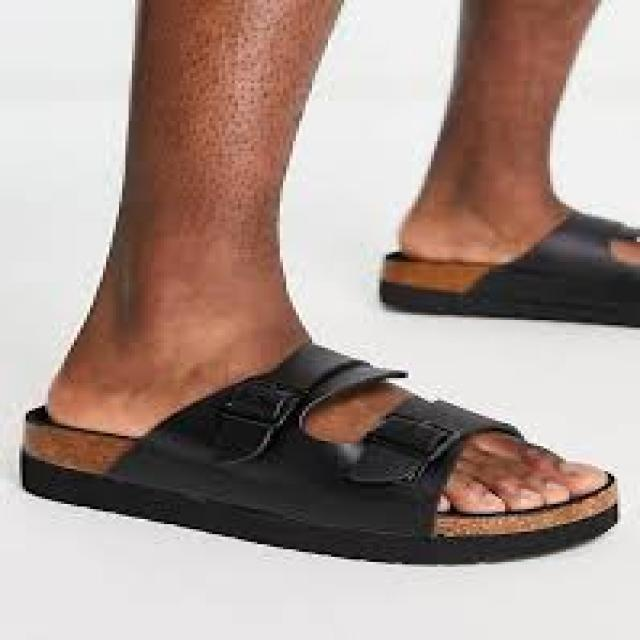Sandals: (6, 279, 631, 562)
